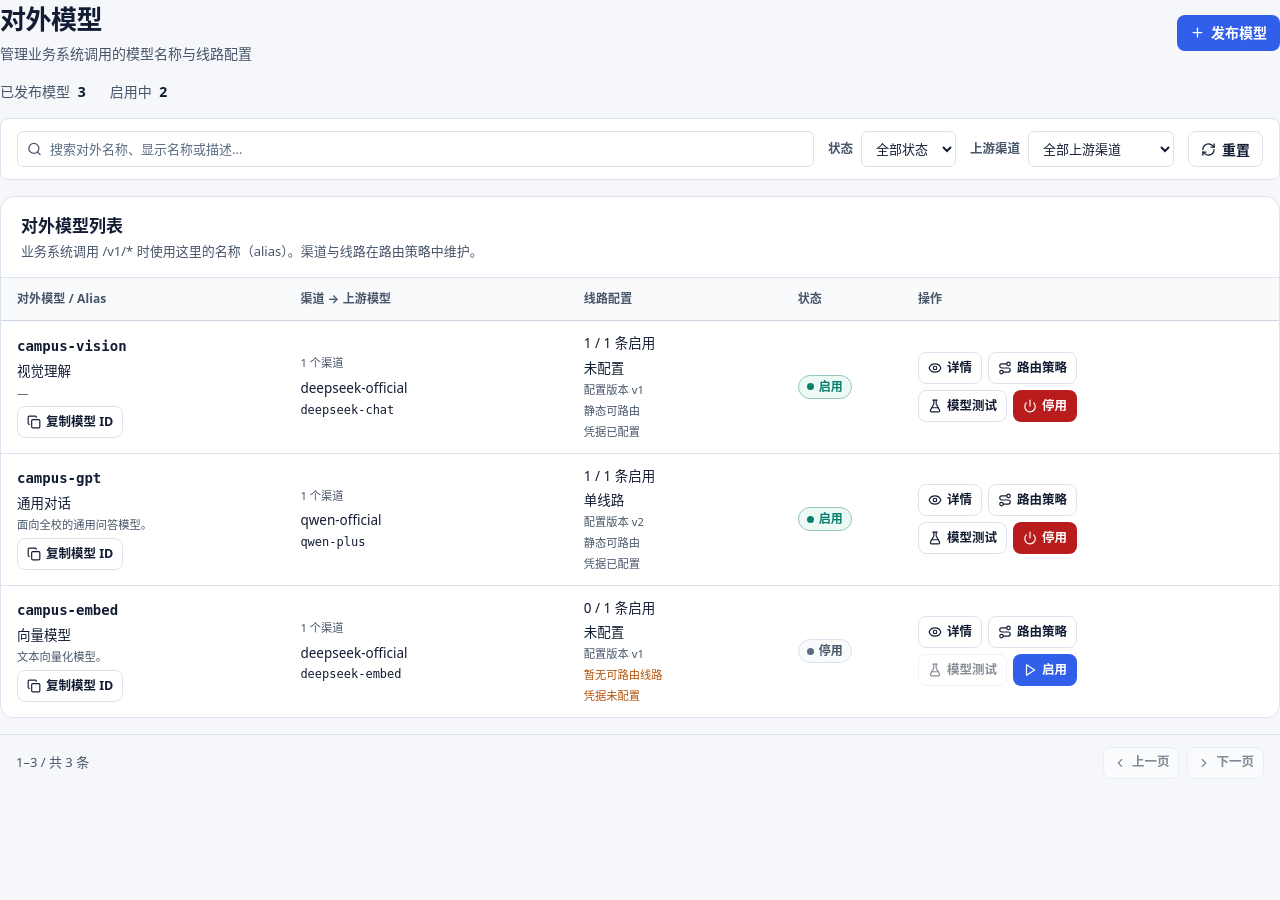
Test: PublishedModelsPage restored workflows › offers a next step for the model returned by a successful publication
The image size is (1280, 900).
Click the button "发布模型": click(1228, 33) [1177, 15, 1279, 51]
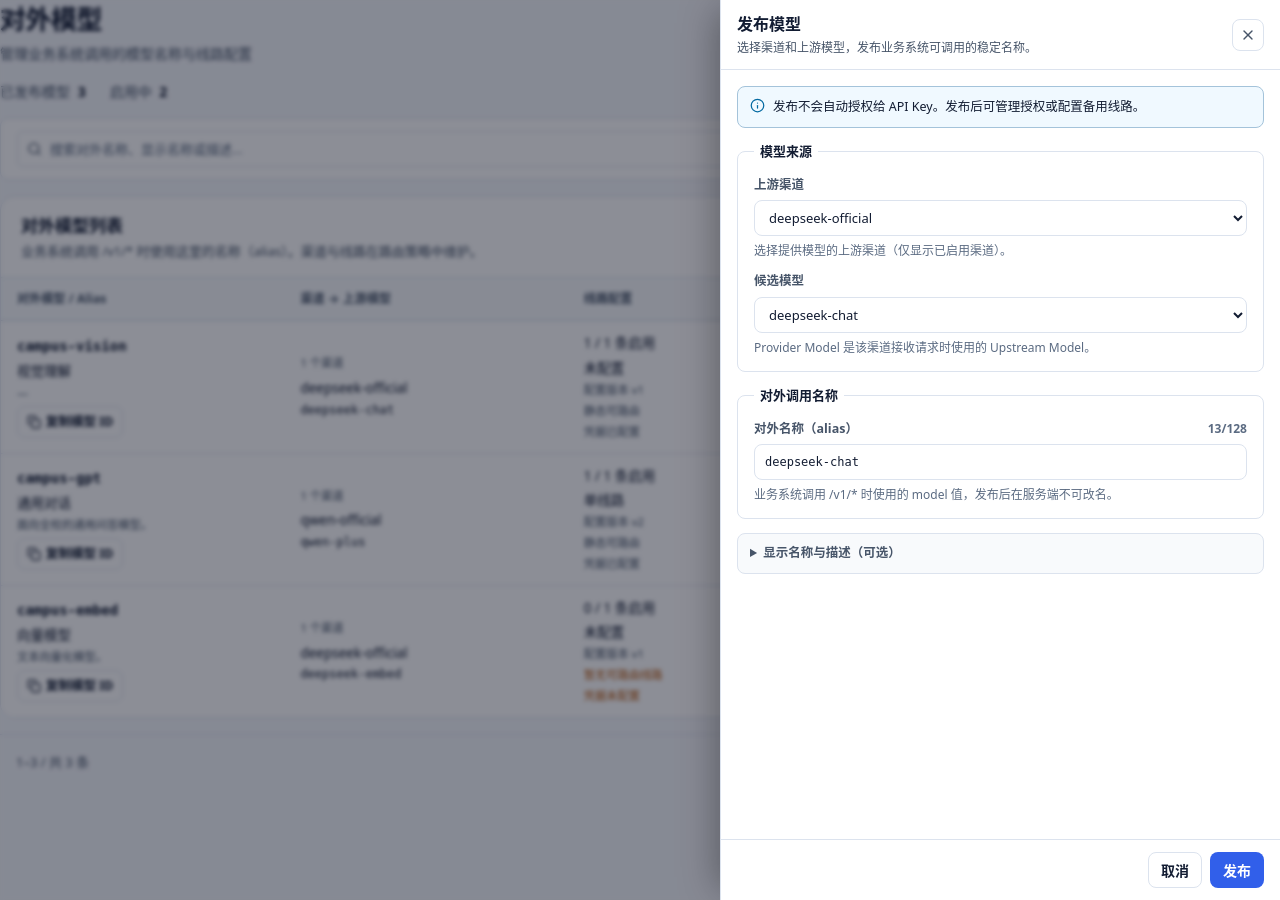
Now the field labelled "对外名称（alias） 13/128 业务系统调用 /v1/* 时使用的 model 值，发布后在服务端不可改名。" holds "deepseek-chat", box [754, 444, 1247, 480]
Click the button "发布": click(1237, 870) [1210, 852, 1264, 888]
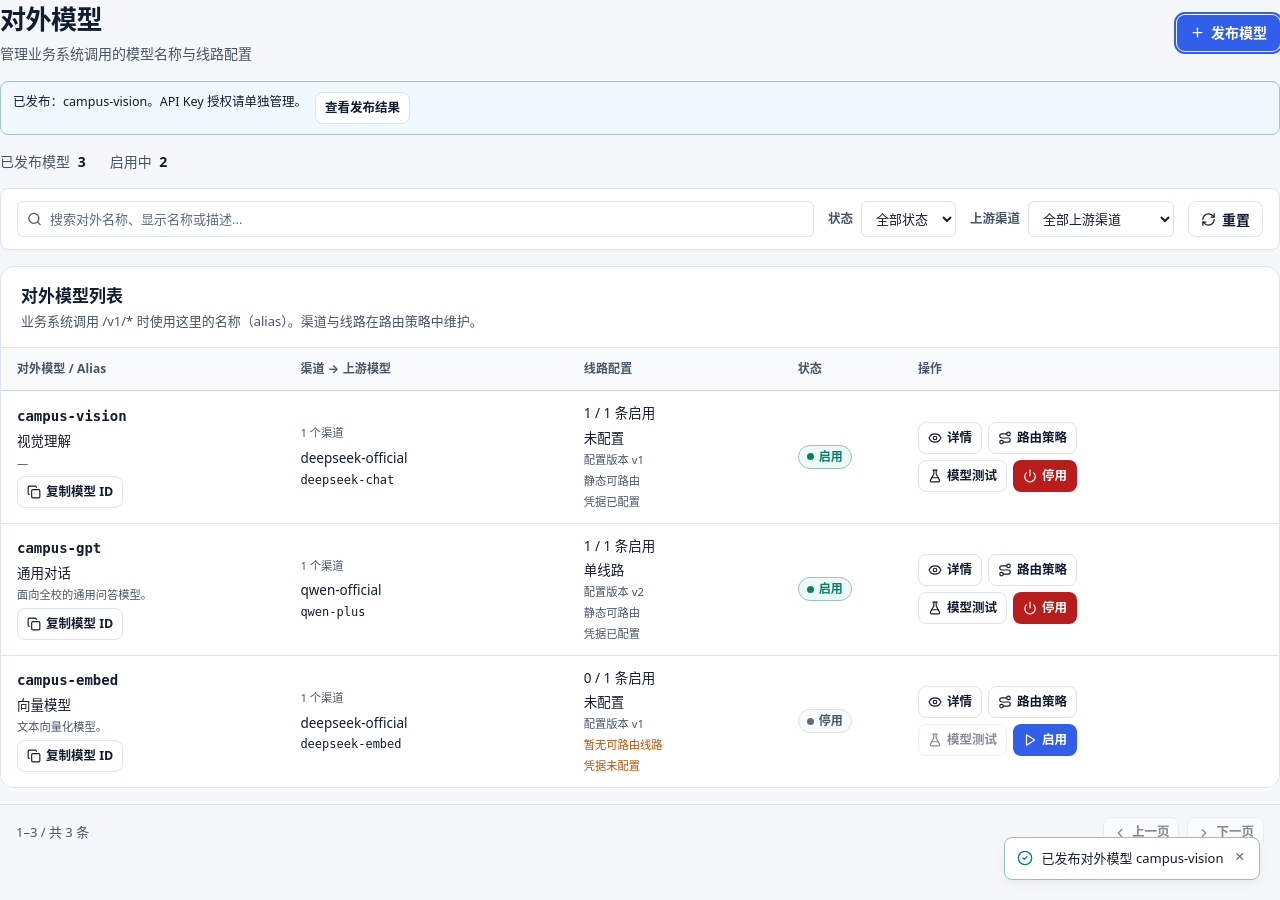
Click the button "查看发布结果": click(362, 108) [315, 92, 410, 124]
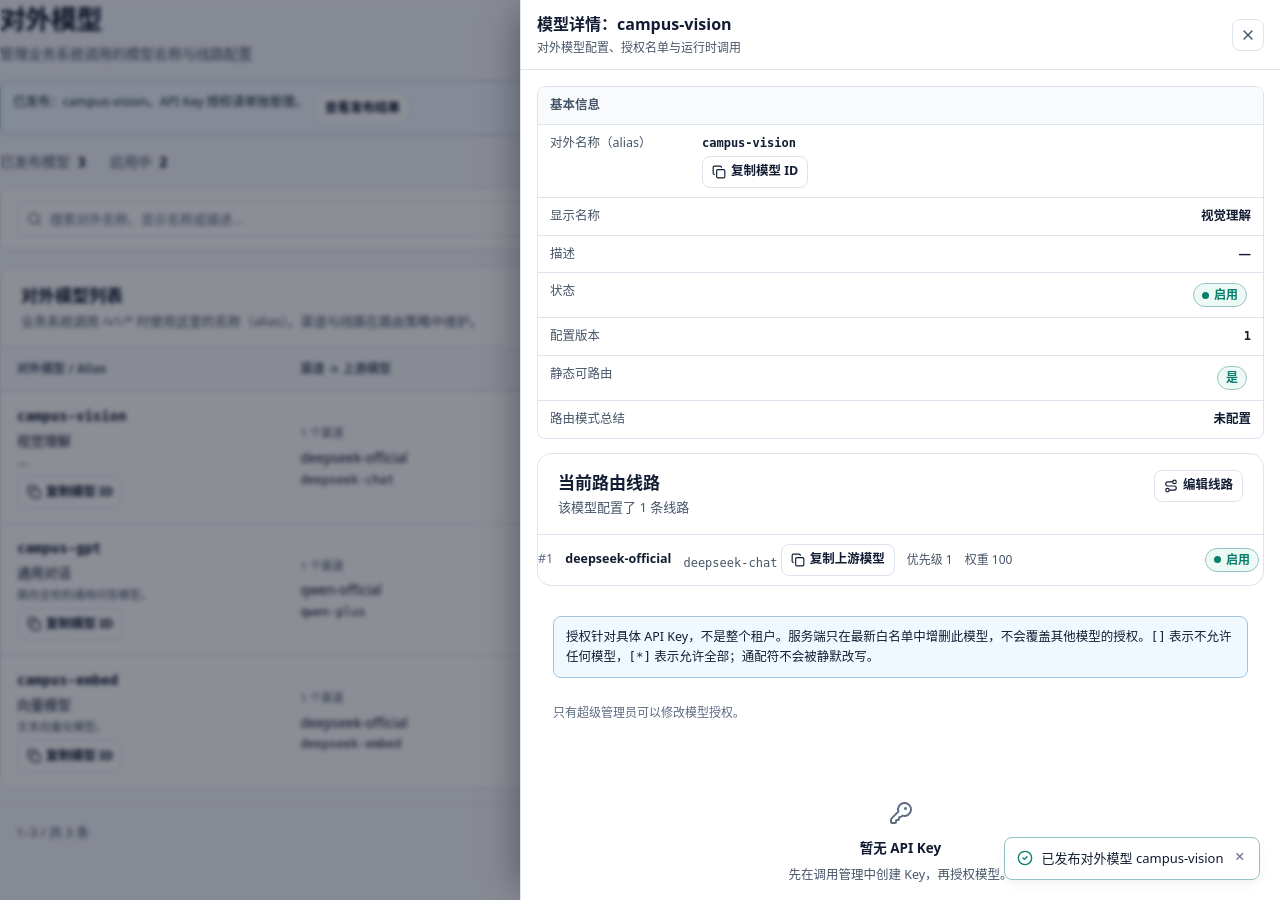
Now the heading "模型详情：campus-vision" is shown, box [537, 12, 741, 36]
